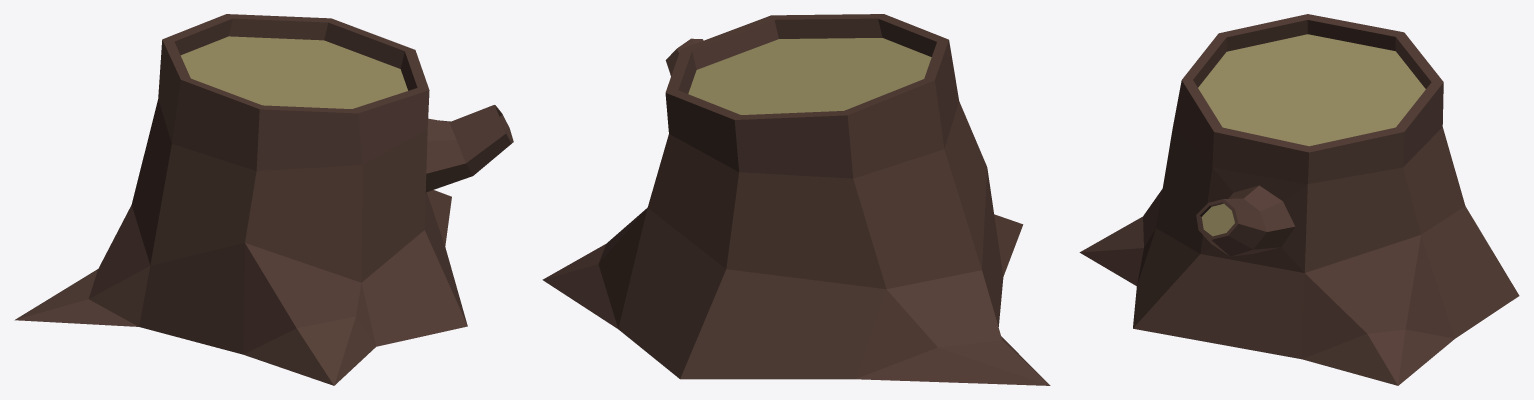
Rendered from stump_3.obj.
3 views of the same model, side by side, from view 1: azimuth 30°, elevation 25°; view 2: azimuth 150°, elevation 25°; view 3: azimuth 270°, elevation 25° (orthographic). The views are drawn at different scales.
Parts seen in each view (by area): view 1: stump_3_Cylinder.007; view 2: stump_3_Cylinder.007; view 3: stump_3_Cylinder.007.
Boxes of the visible parts, x1,y1,x2,y2 form: stump_3_Cylinder.007: [14, 14, 513, 385]; stump_3_Cylinder.007: [542, 14, 1050, 385]; stump_3_Cylinder.007: [1079, 14, 1519, 385].
Size of the model in its own units: 1.11 by 0.5344 by 0.9617.
Materials: 1 (1 with a texture image).
